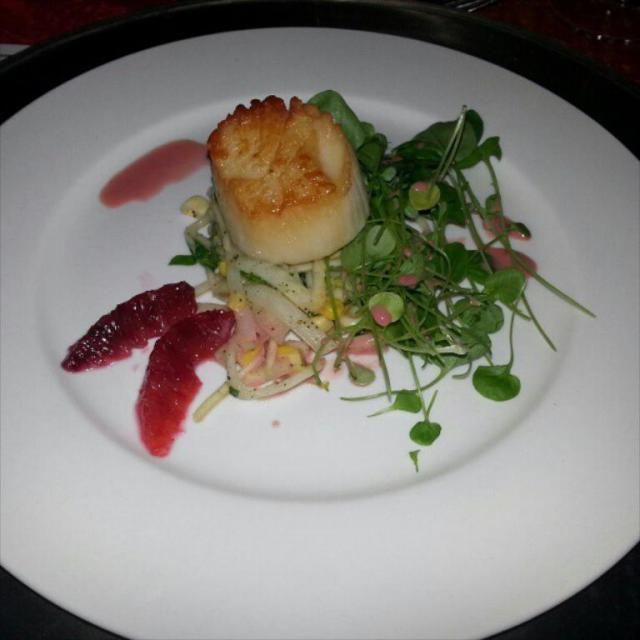non-organic waste: (0, 27, 640, 633)
